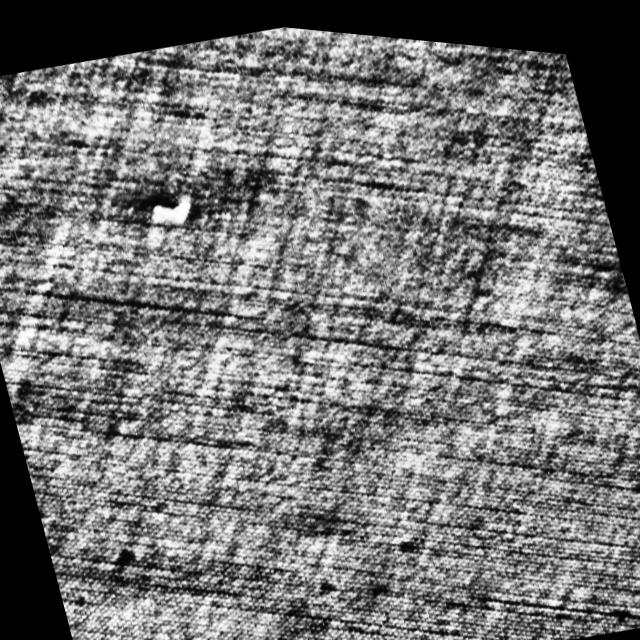Hole: (139, 181, 195, 225)
